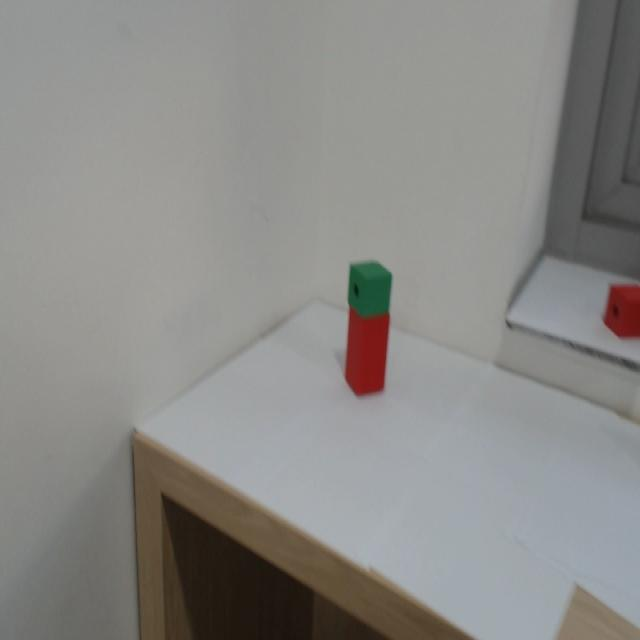cube: (349, 250, 395, 319)
